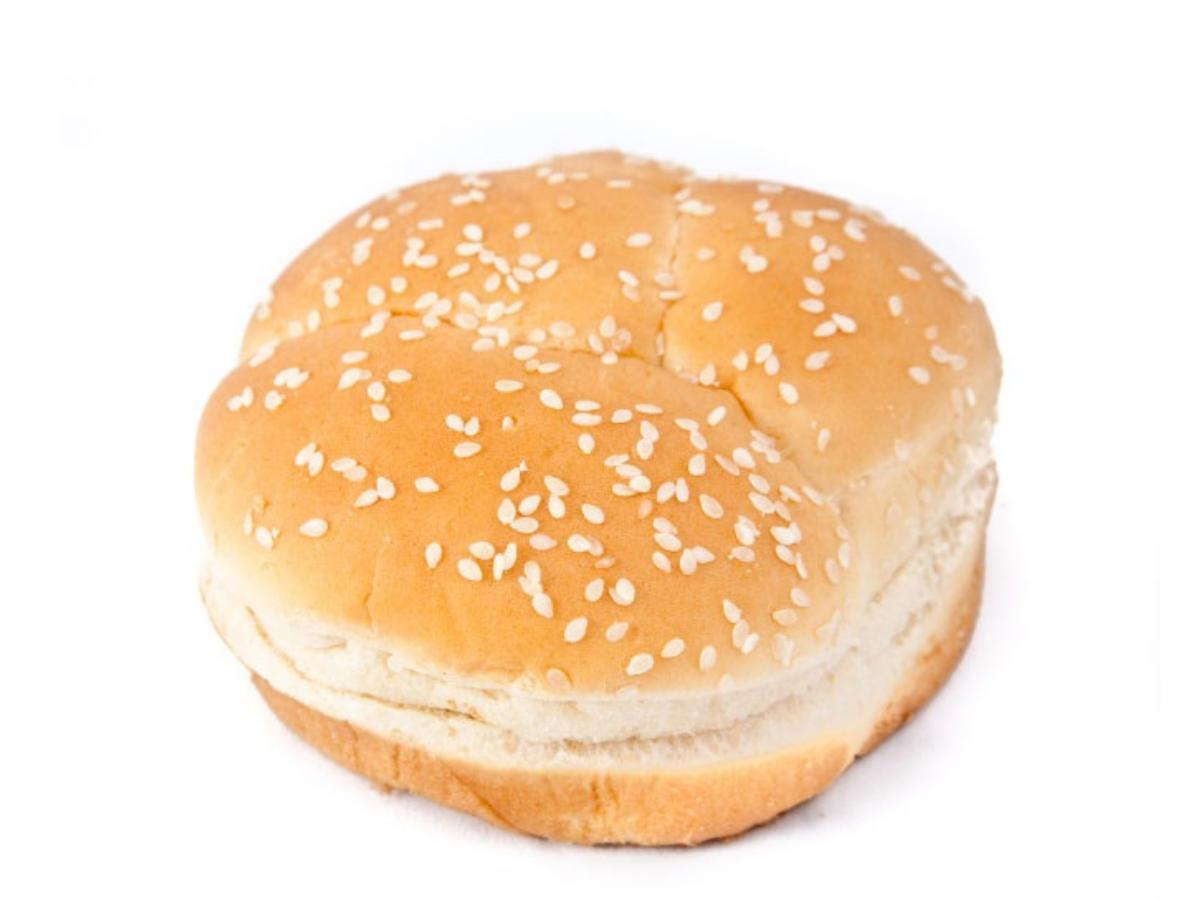hamburger_buns: (195, 114, 1021, 899)
